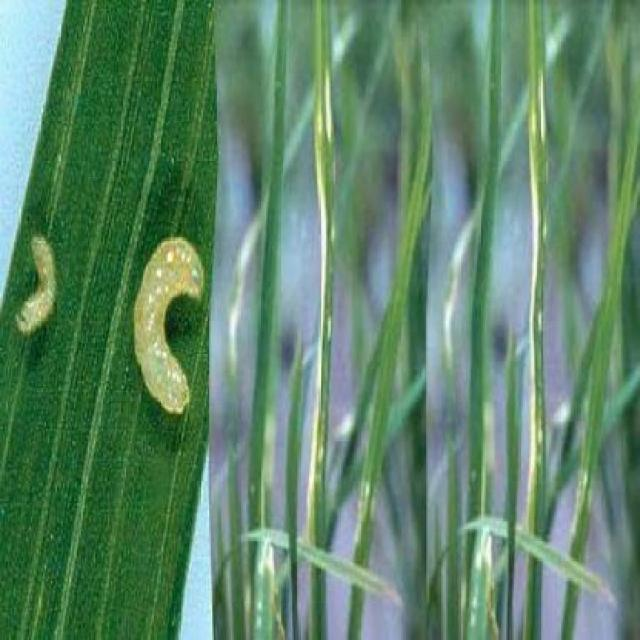whorl-maggot: (129, 231, 208, 418), (14, 218, 60, 356)
